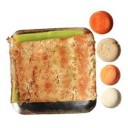dosa: (9, 36, 96, 101)
